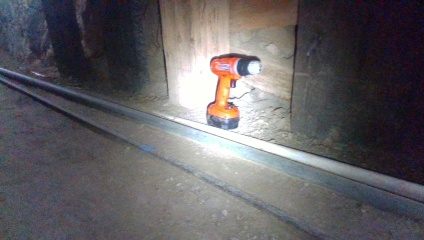drill: (205, 55, 264, 130)
